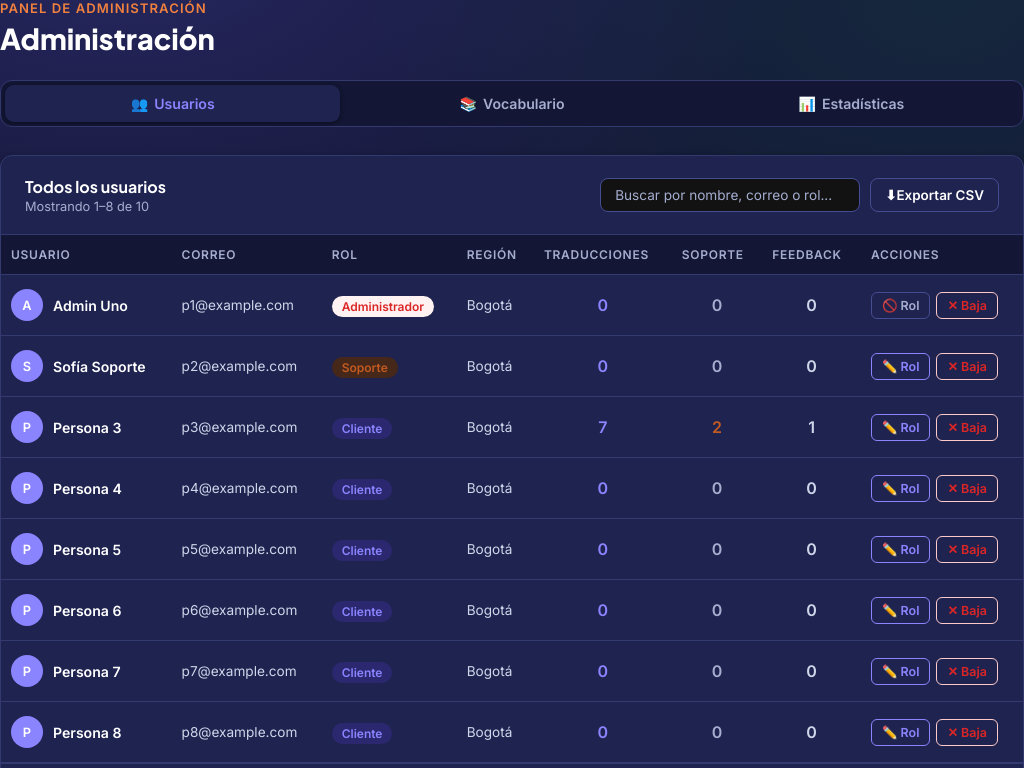
Test case: Administración · Usuarios › should show the backend message when the role cannot be changed
Expected: the text "Mostrando 1–8 de 10" is shown, [25,199,166,214]
Click the button titled "Cambiar rol" in the row of "Persona 3".
click(901, 427)  # box [871,414,930,440]
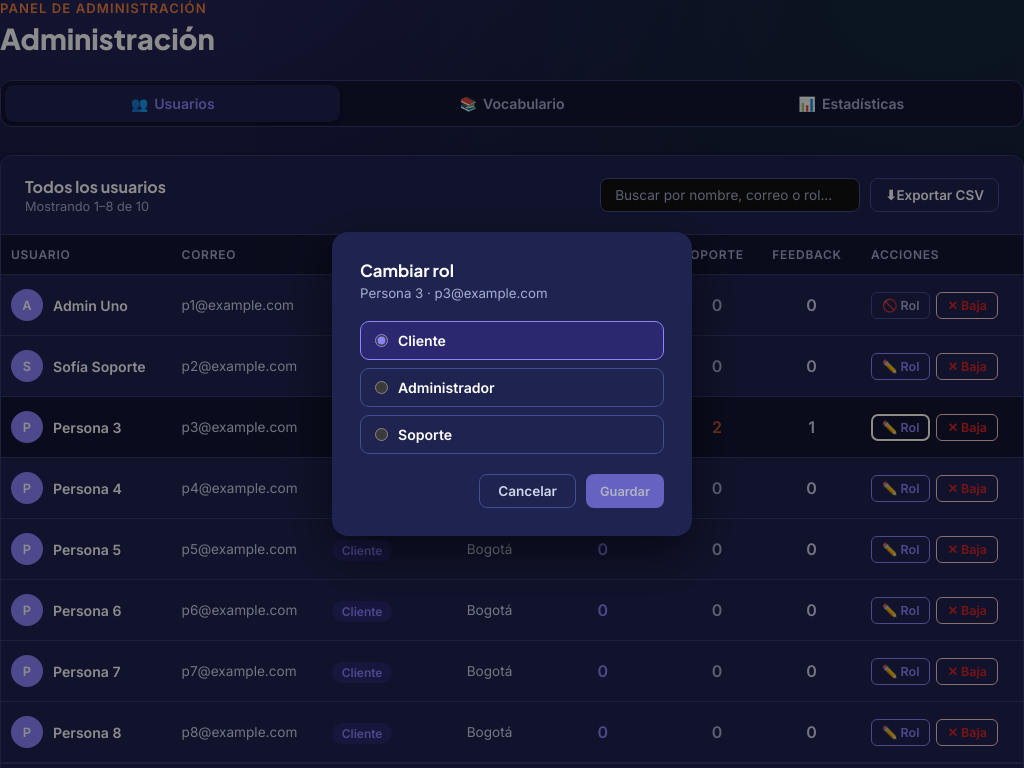
Click the radio button labelled "Administrador".
click(382, 388)  # box [375,381,388,394]
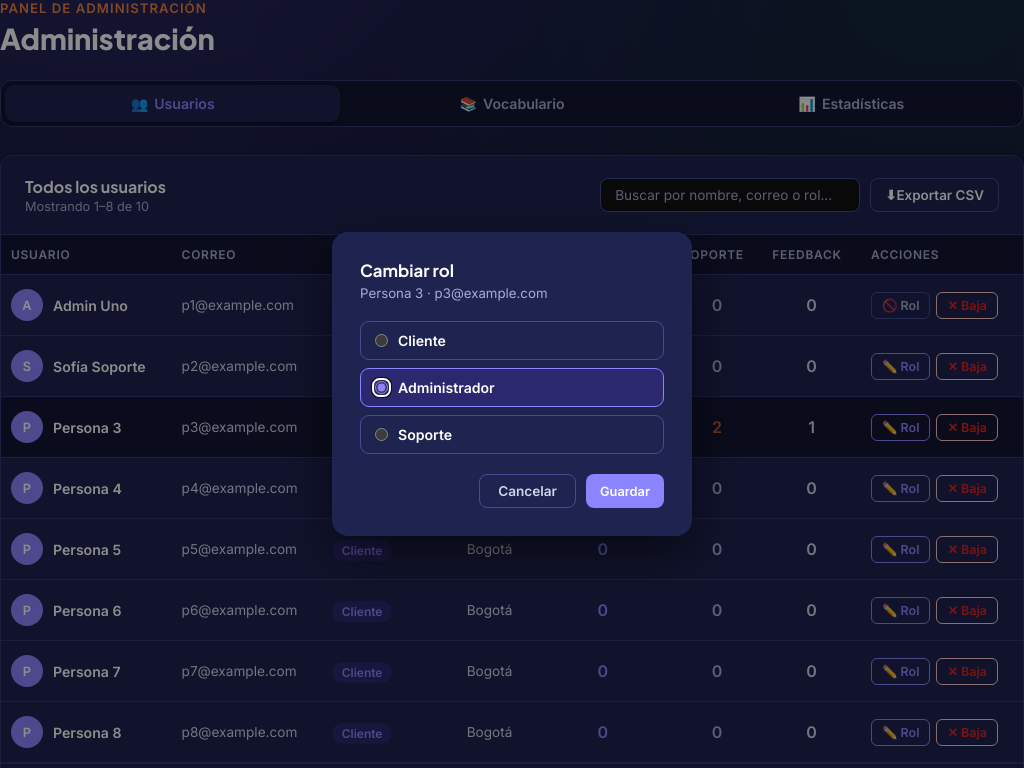
Click the button "Guardar".
click(625, 491)  # box [586,474,664,508]
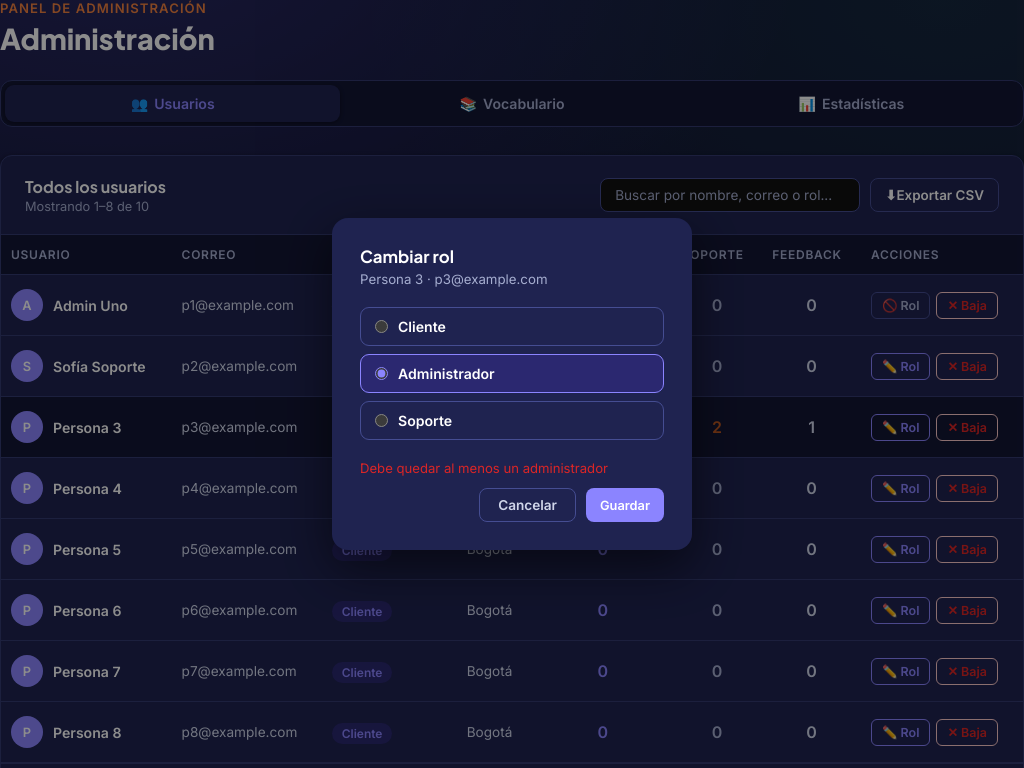
Expected: the text "Debe quedar al menos un administrador" is shown, [360,460,608,476]
Click the button "Cancelar".
click(528, 505)  # box [479,488,576,522]
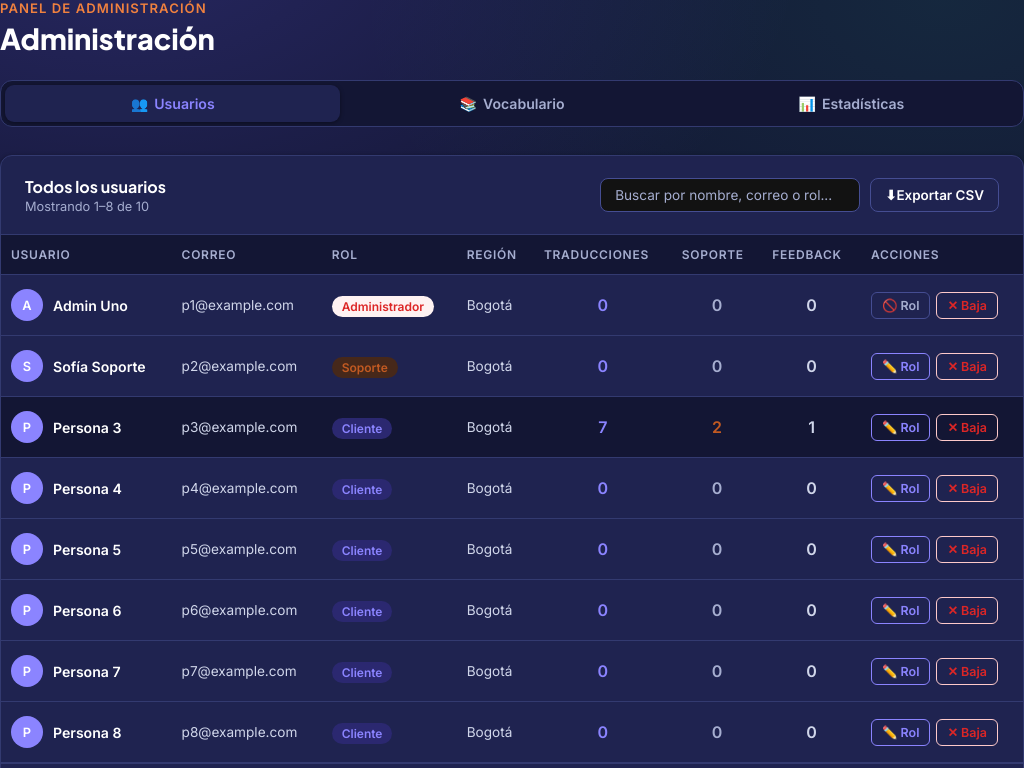
Expected: the heading "Cambiar rol" is gone
